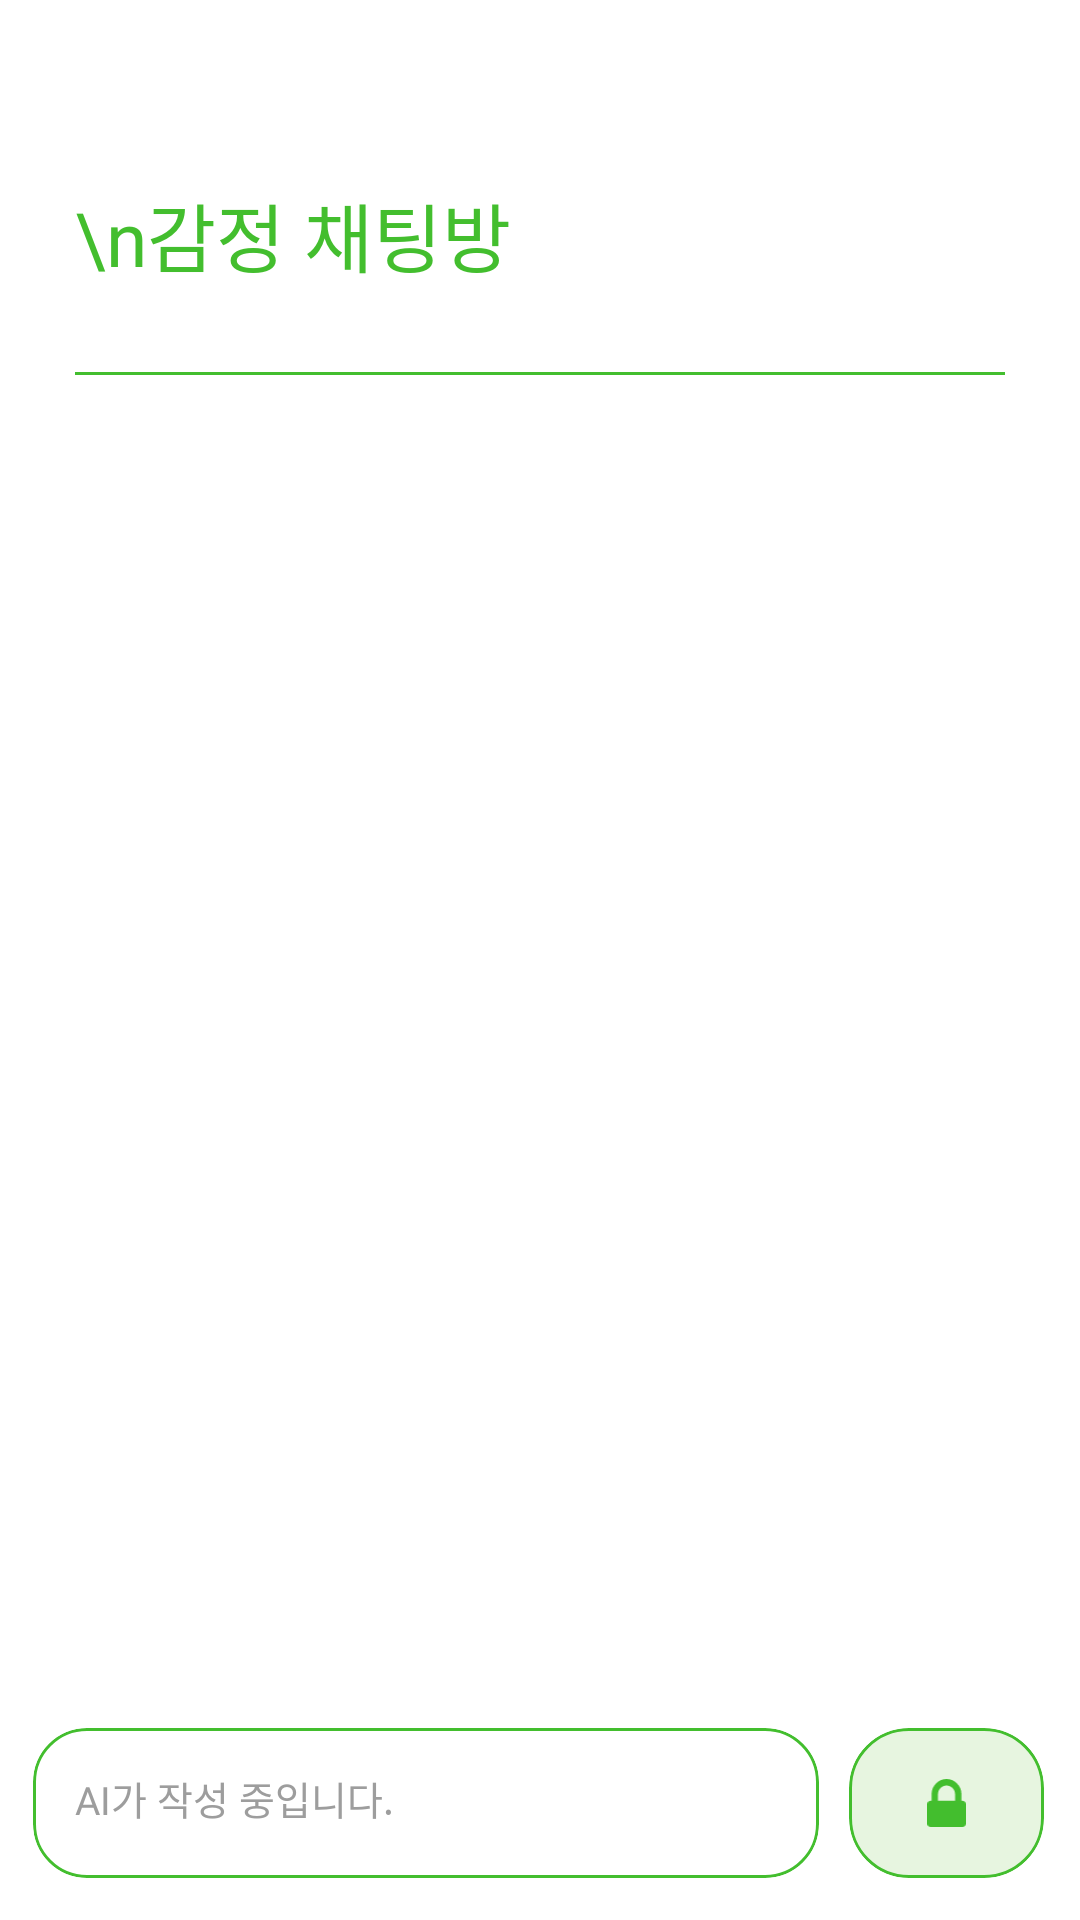

Point at icon controls on the screen. Image size 1080px x 1920px, points as [x,y].
lock: [946,1803]
